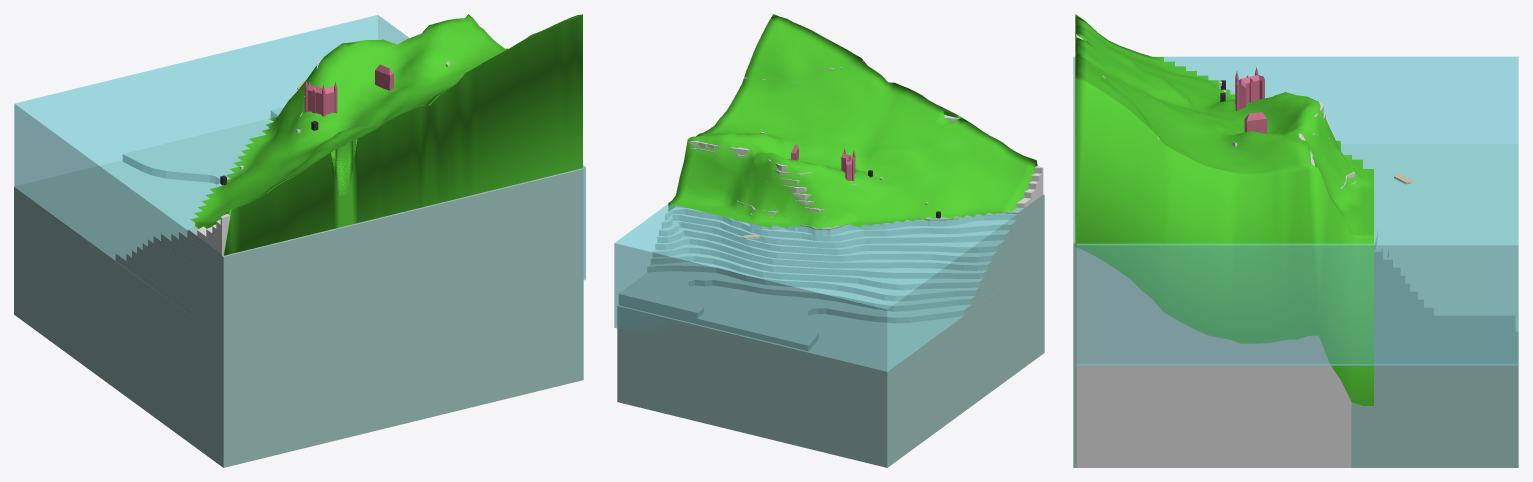
File: 3dMap.dae
3 views of the same model, side by side, from view 1: azimuth 30°, elevation 25°; view 2: azimuth 150°, elevation 25°; view 3: azimuth 270°, elevation 25° (orthographic). The views are drawn at different scales.
Visible parts, largest first — view 1: DEM, water, base, Contour-360, Contour-420, Contour-380, Contour-400, Contour-560, Contour-480, Contour-540, Contour-440, Contour-520 (+3 smaller); view 2: base, DEM, water, Contour-360, Contour-380, Contour-400, Contour-420, Contour-440, Contour-500, Contour-480, Contour-460, Contour-520 (+3 smaller); view 3: water, DEM, Contour-360, Contour-380, Contour-720, base, Contour-940, Contour-540, Contour-920, Contour-900, Contour-760_001, Contour-740_001 (+19 smaller).
Boxes of the visible parts, x1,y1,x2,y2 form: DEM: [190, 14, 582, 255]; water: [14, 15, 585, 280]; base: [14, 160, 221, 466]; Contour-360: [115, 118, 560, 467]; Contour-420: [137, 196, 583, 466]; Contour-380: [126, 107, 583, 466]; Contour-400: [132, 197, 583, 466]; Contour-560: [187, 168, 583, 449]; Contour-480: [153, 199, 583, 465]; Contour-540: [179, 177, 583, 461]; Contour-440: [142, 197, 583, 465]; Contour-520: [171, 184, 583, 462]; base: [617, 258, 1043, 467]; DEM: [668, 14, 1037, 228]; water: [614, 204, 1016, 385]; Contour-360: [618, 251, 1044, 411]; Contour-380: [618, 246, 1044, 318]; Contour-400: [647, 240, 1044, 301]; Contour-420: [650, 235, 1044, 290]; Contour-440: [652, 229, 1044, 278]; Contour-500: [659, 212, 1044, 254]; Contour-480: [657, 218, 1044, 262]; Contour-460: [655, 223, 1044, 270]; Contour-520: [661, 206, 1044, 248]; water: [1076, 56, 1518, 365]; DEM: [1075, 14, 1373, 405]; Contour-360: [1342, 152, 1515, 467]; Contour-380: [1374, 215, 1515, 467]; Contour-720: [1209, 111, 1325, 467]; base: [1341, 145, 1518, 467]; Contour-940: [1077, 248, 1095, 467]; Contour-540: [1355, 250, 1383, 467]; Contour-920: [1095, 256, 1108, 467]; Contour-900: [1108, 264, 1120, 467]; Contour-760_001: [1076, 34, 1192, 467]; Contour-740_001: [1192, 328, 1208, 467].
Size of the model in its own units: 10.11 by 10.08 by 10.68.
